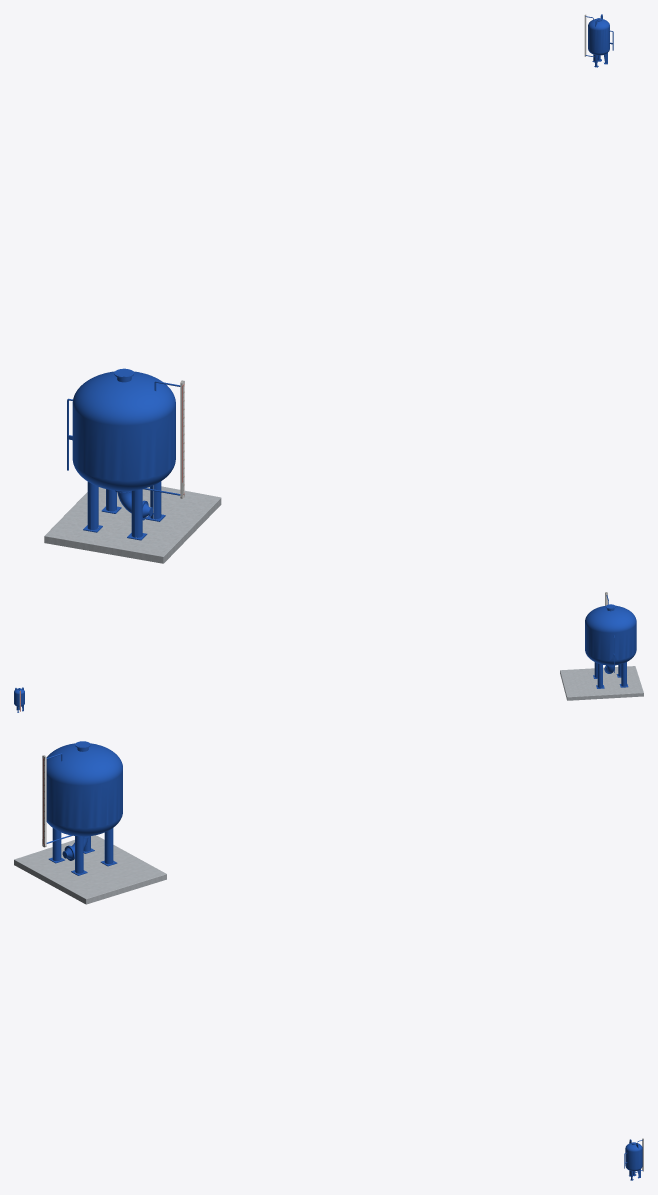
The model's file is 消除罐.glb.
3 renders of one model, top to bottom at view 1: azimuth 30°, elevation 25°; view 2: azimuth 150°, elevation 25°; view 3: azimuth 270°, elevation 25°, orthographic. The views are drawn at different scales.
Parts seen in each view (by area): view 1: 罐体02-1外层, 罐体02-地面板, 罐体02-底部支柱, 罐体01-1外层; view 2: 罐体02-1外层, 罐体02-地面板, 罐体02-底部支柱; view 3: 罐体02-1外层, 罐体02-地面板, 罐体02-底部支柱.
Part boxes in pixels (bbox=[...]): 罐体02-1外层: bbox=[72, 368, 175, 491]; 罐体02-地面板: bbox=[44, 485, 221, 563]; 罐体02-底部支柱: bbox=[83, 481, 165, 540]; 罐体01-1外层: bbox=[588, 18, 609, 57]; 罐体02-1外层: bbox=[585, 604, 636, 665]; 罐体02-地面板: bbox=[560, 666, 643, 700]; 罐体02-底部支柱: bbox=[593, 662, 628, 688]; 罐体02-1外层: bbox=[46, 741, 122, 836]; 罐体02-地面板: bbox=[14, 835, 166, 904]; 罐体02-底部支柱: bbox=[48, 828, 117, 875].
Bounding box in the file's own units: 52.71 × 8.79 × 40.53.
Materials: 4 (2 with a texture image).
